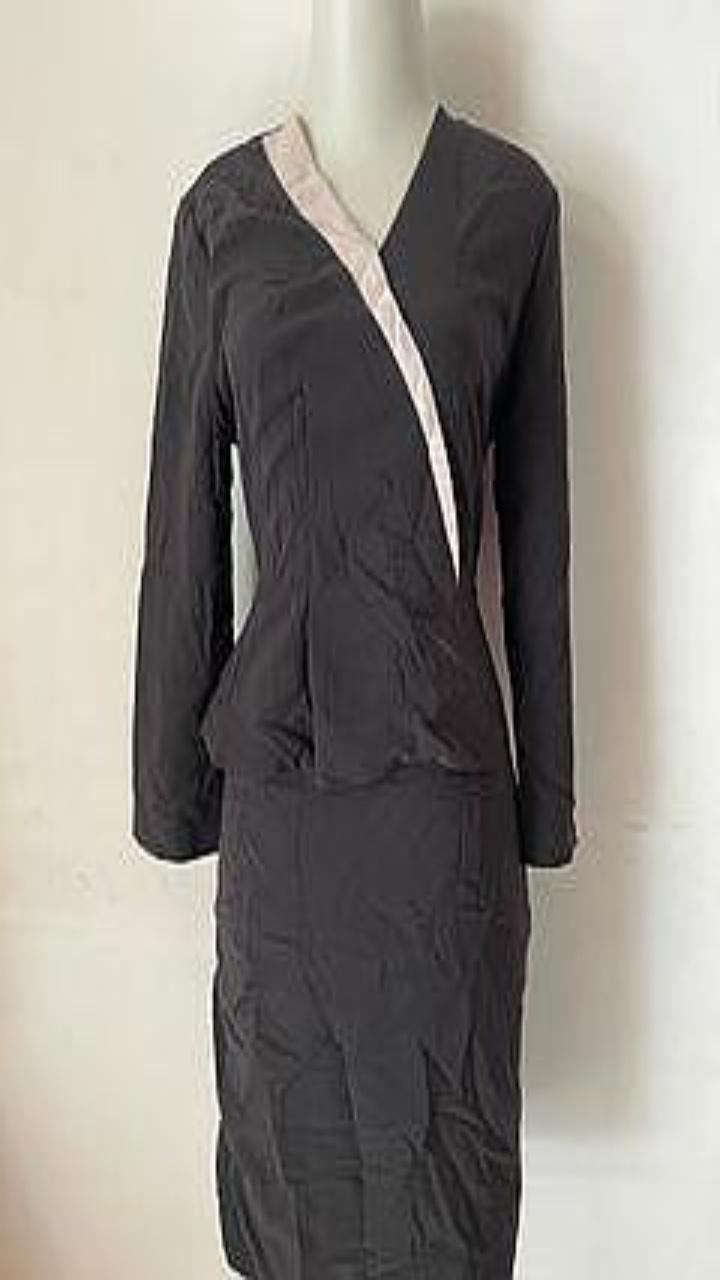Dresses: (133, 104, 576, 1279)
